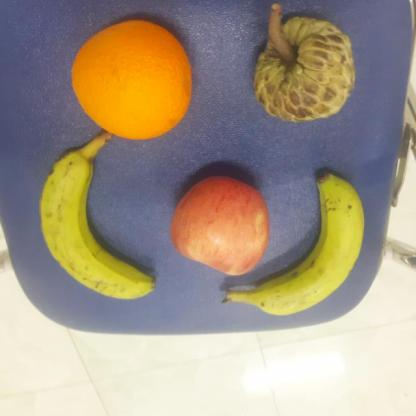annona: (253, 18, 356, 122)
apple: (169, 176, 270, 276)
banana: (223, 170, 365, 316), (40, 146, 156, 300)
orange: (70, 21, 192, 142)
